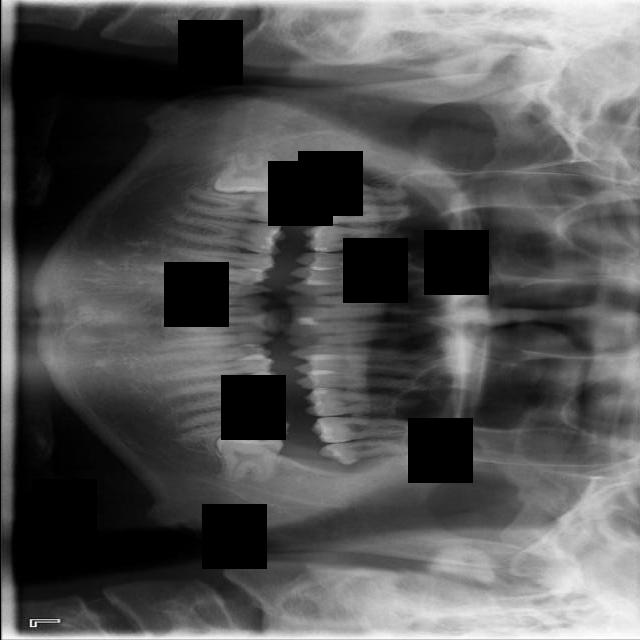3M ESPE Implant: (320, 178, 407, 206)
52: (238, 215, 288, 259), (247, 191, 292, 224), (302, 224, 351, 253), (302, 387, 346, 417), (278, 304, 327, 323), (279, 321, 329, 336)
73: (78, 599, 100, 600)
BioHorizons Implant: (309, 416, 425, 445)
BioLife Implant: (319, 436, 436, 466)
Biomet 3i Implant: (213, 435, 284, 486)
Blue Sky Bio Implant: (176, 403, 292, 442)
Caries: (308, 193, 423, 225)
Implant: (185, 186, 294, 225)
Keystone Dental Implant: (211, 146, 284, 198)
